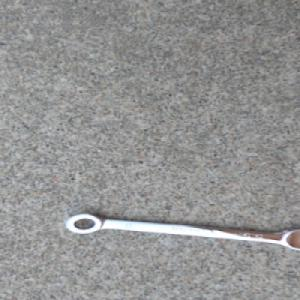Wrench: (63, 212, 300, 250)
